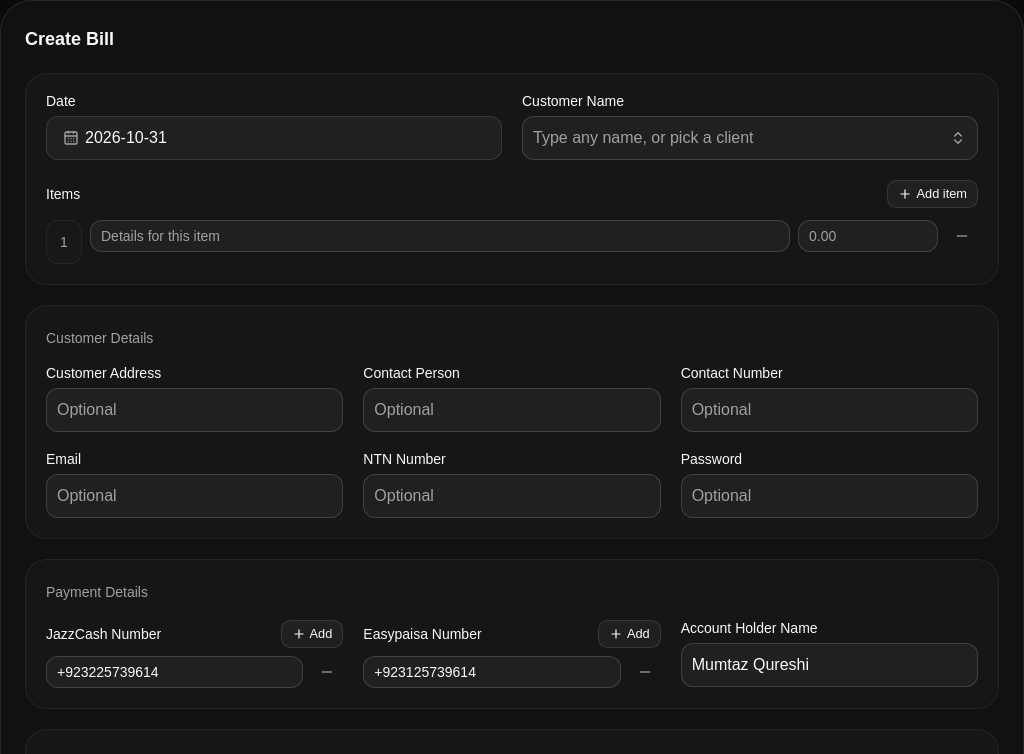
Test: CreateBillForm › explains a wallet number that is not in +92 format
Type "03001234567" into the field named "JazzCash Number 1" at (175, 672), box [46, 656, 303, 688]
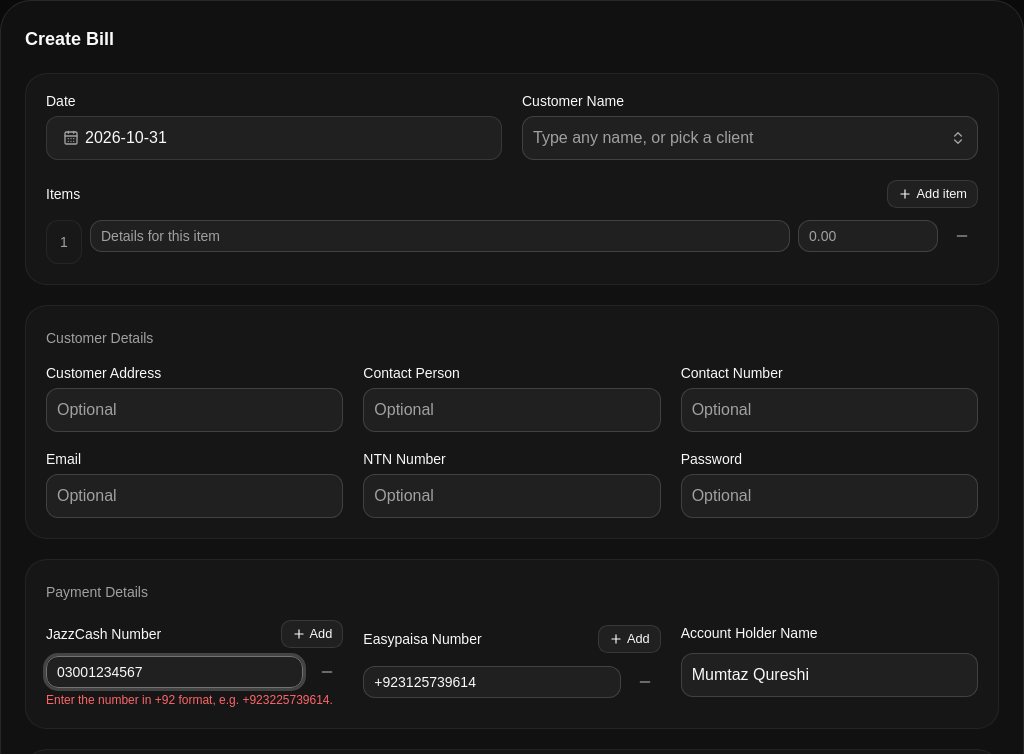
Result: the text "Enter the number in +92 format, e.g. +923225739614." is shown at [46, 692, 343, 708]
